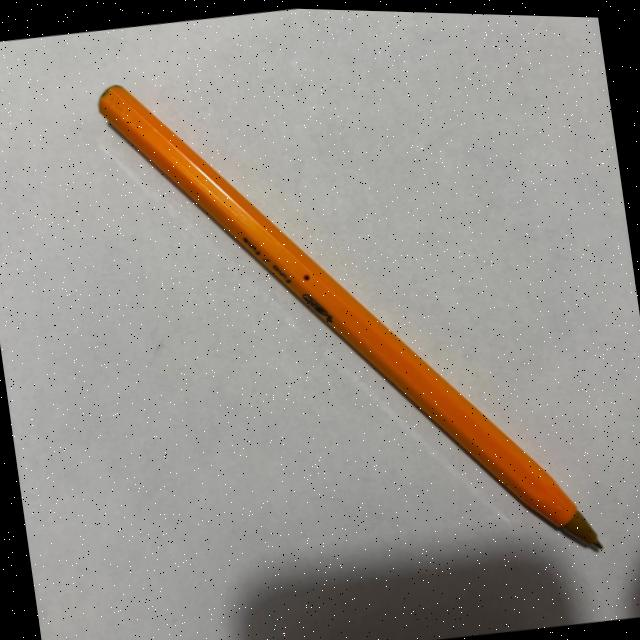pencil: (98, 85, 604, 548)
